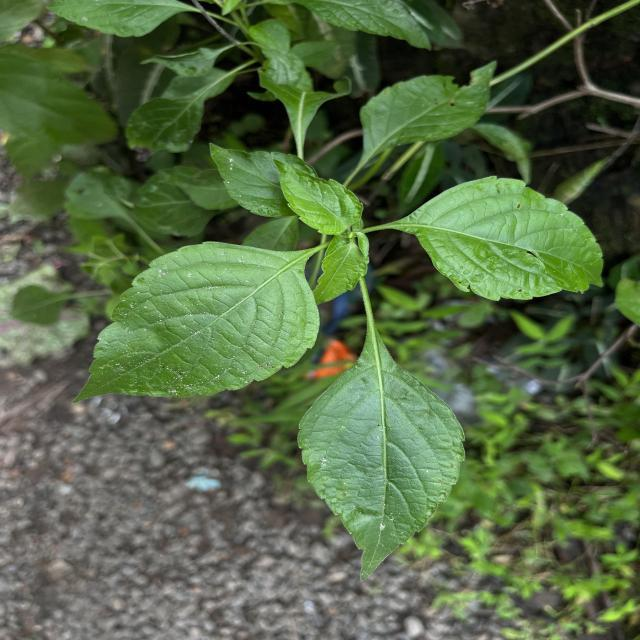Ocimum gratissimum: (294, 316, 468, 586), (69, 239, 322, 412), (380, 172, 606, 302), (271, 152, 367, 238)
